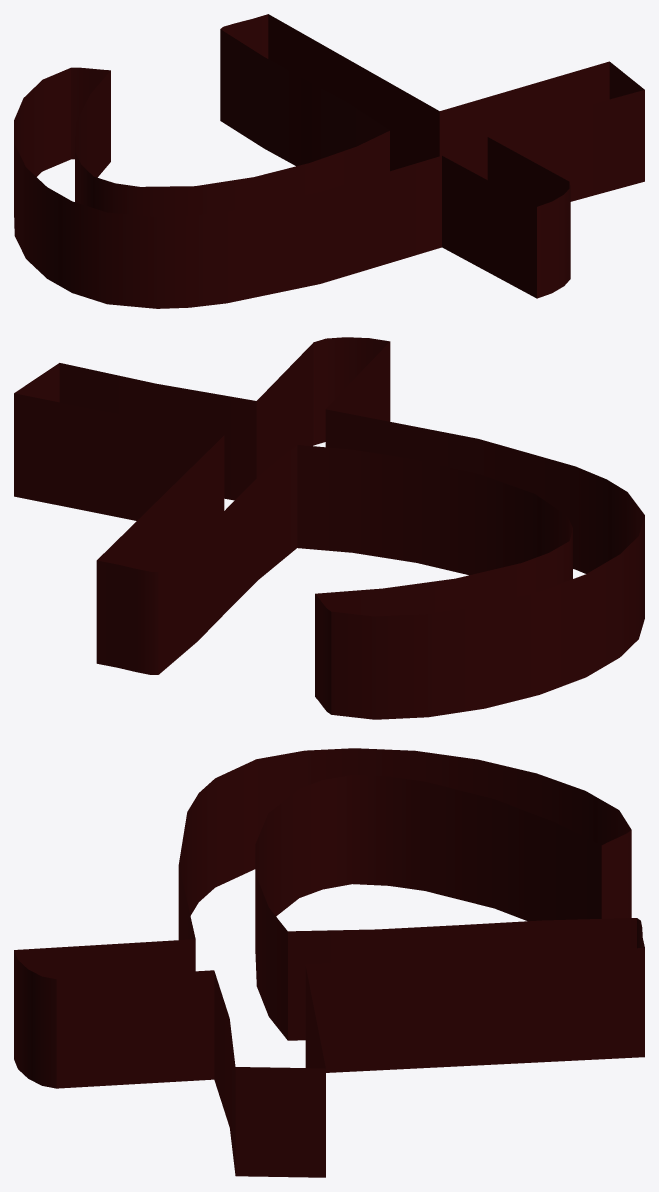
Rendered from original-42.obj.
3 renders of one model, top to bottom at view 1: azimuth 30°, elevation 25°; view 2: azimuth 150°, elevation 25°; view 3: azimuth 270°, elevation 25°, orthographic. The views are drawn at different scales.
Visible parts, largest first — view 1: #ID88; view 2: #ID88; view 3: #ID88.
Part boxes in pixels (box(x1,y1,x2,y2)): #ID88: box(14, 14, 644, 308); #ID88: box(14, 337, 644, 719); #ID88: box(14, 748, 644, 1177).
Size of the model in its own units: 0.0111 by 0.00176 by 0.0092.
